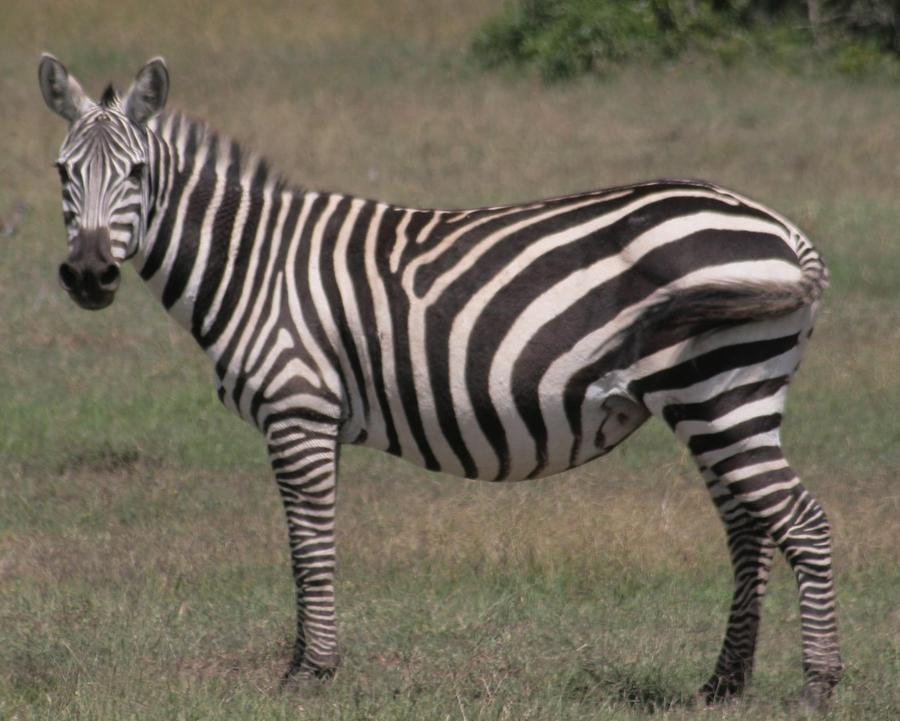zebra_plains: (214, 158, 800, 469)
